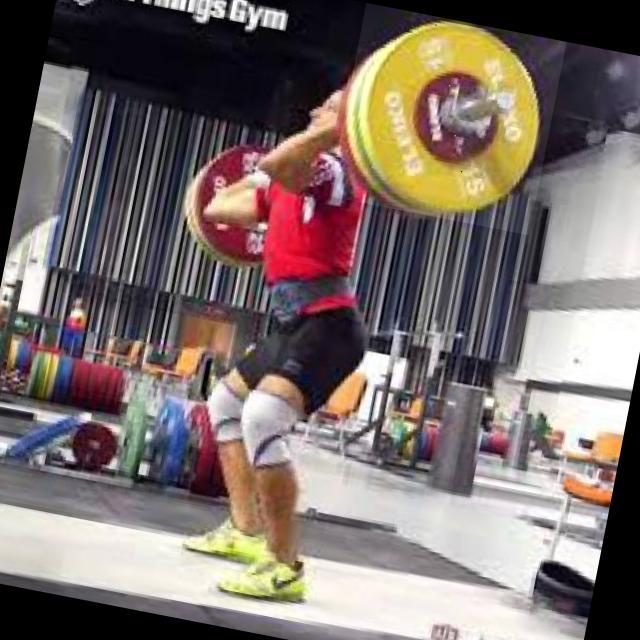barbell: (330, 4, 568, 236)
